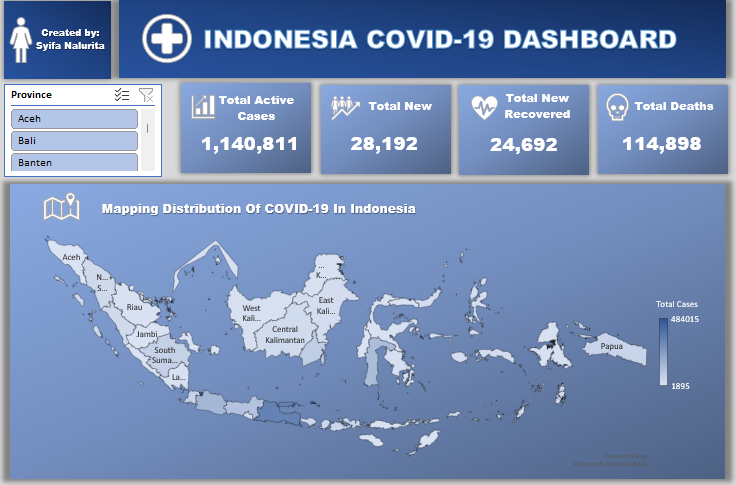

The dashboard page shown, as its layout file describes it:
{"tool":"tableau","page":{"name":"Interactive Dashboard","canvas":[1000,1000],"units":"permille","ordinal":1},"visuals":[{"type":"worksheet","title":"Peta Kasus Covid 19","mark":"Automatic","box":[32.3,18.9,933.9,303.8]},{"type":"legend","title":"Peta Kasus Covid 19","param":"[federated.0fhpmem1whgvg11fjsdhc1a0t5d1].[sum:Total Cases:qk]","box":[767.7,77.9,189.2,101.2]},{"type":"worksheet","title":"New_cases","mark":"Automatic","rows":["New Cases"],"cols":["Date"],"box":[333.9,331.4,624.6,190.7]},{"type":"worksheet","title":"Active Case_N","mark":"Automatic","box":[33.9,341.9,281.5,80.2]},{"type":"worksheet","title":"Death Case_N","mark":"Automatic","box":[36.9,422.1,280,67.4]},{"type":"worksheet","title":"Total cases_B","mark":"Automatic","rows":["Province"],"cols":["Total Cases"],"box":[26.2,529.1,935.4,460.5]}]}

Visuals, with their boxes on the dashboard's canvas, which has no fixed pixel size, in thousandths of its width and height (x1, y1, x2, y2). These are canvas units, not pixel positions in the 736x485 screenshot, which may show the page scaled, cropped or inside an application window:
"Peta Kasus Covid 19" worksheet: bbox(32, 19, 966, 323)
"Peta Kasus Covid 19" legend: bbox(768, 78, 957, 179)
"New_cases" worksheet: bbox(334, 331, 958, 522)
"Active Case_N" worksheet: bbox(34, 342, 315, 422)
"Death Case_N" worksheet: bbox(37, 422, 317, 490)
"Total cases_B" worksheet: bbox(26, 529, 962, 990)
